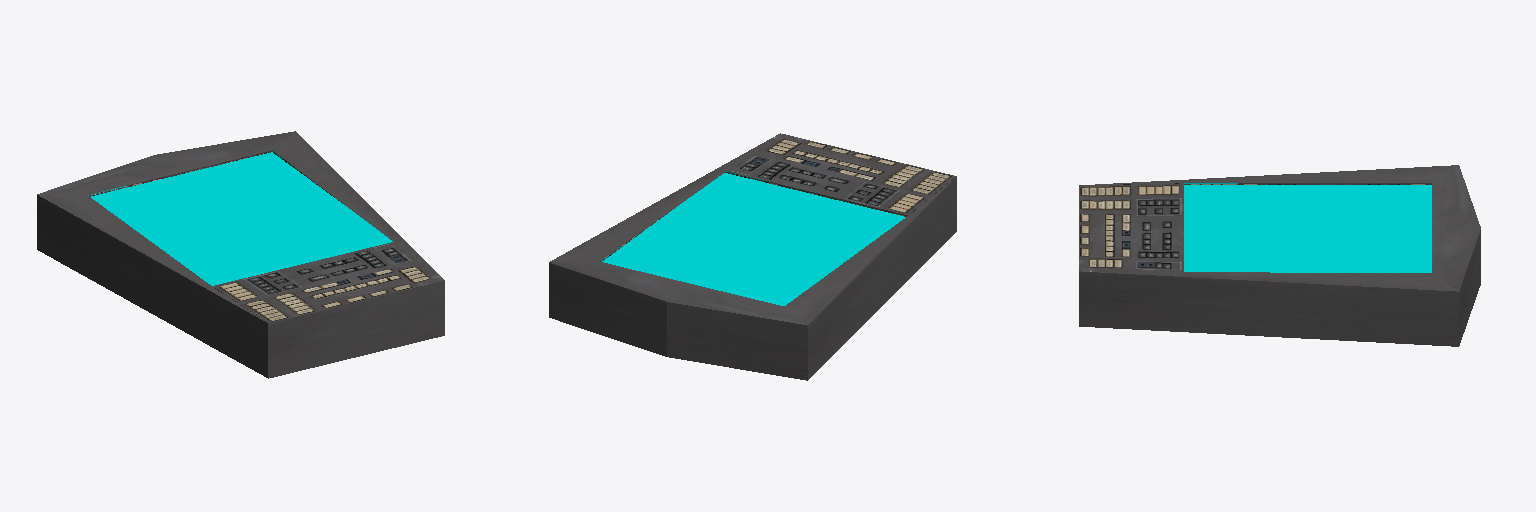
3 renders of one model, left to right at view 1: azimuth 30°, elevation 25°; view 2: azimuth 150°, elevation 25°; view 3: azimuth 270°, elevation 25°, orthographic.
Parts seen in each view (by area): view 1: Cube; view 2: Cube; view 3: Cube.
Boxes of the visible parts, x1,y1,x2,y2 form: Cube: [37, 131, 444, 378]; Cube: [549, 133, 956, 380]; Cube: [1079, 165, 1480, 346].
Size of the model in its own units: 0.7842 by 0.1596 by 1.05.
1 materials, 1 textured.